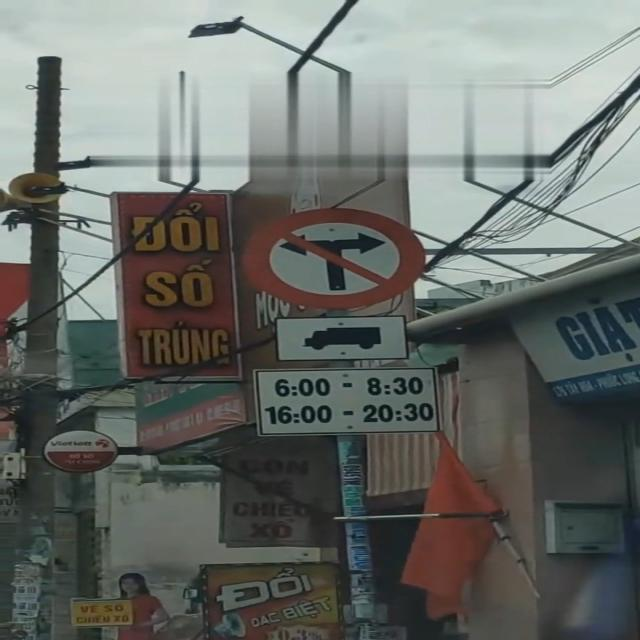137-cam-re-trai-va-re-phai: (239, 208, 427, 308)
